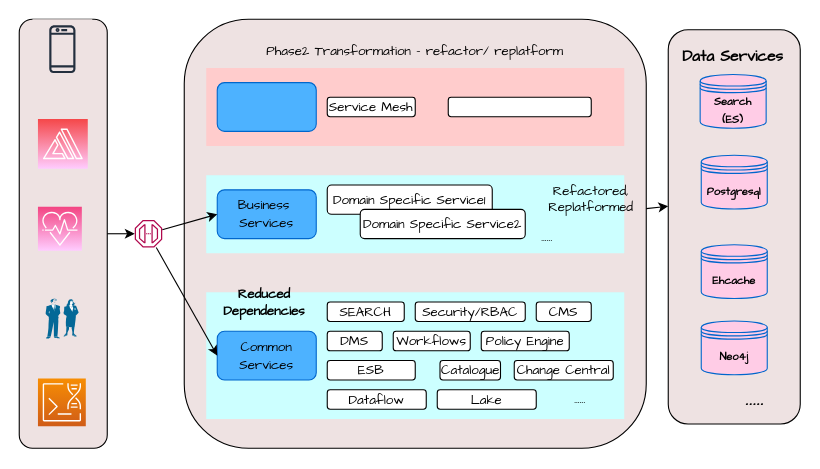
Image size: 820x469. Some labels were removed from this diagram. The shapes that lost their labels are listed below. From the top down, each one's centre as x and y in pixels, then its label:
At (x=61, y=48): "Mobile client".
At (x=266, y=106): "Service Orchestration".
At (x=519, y=106): "Monitoring && Scaling".
At (x=62, y=143): "Applications".
At (x=59, y=228): "Dashboards".
At (x=148, y=233): "API Gateway".
At (x=61, y=318): "AI Queries".
At (x=61, y=401): "CLI".
